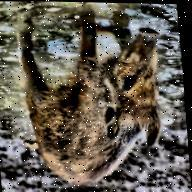boar: (18, 14, 179, 191)
